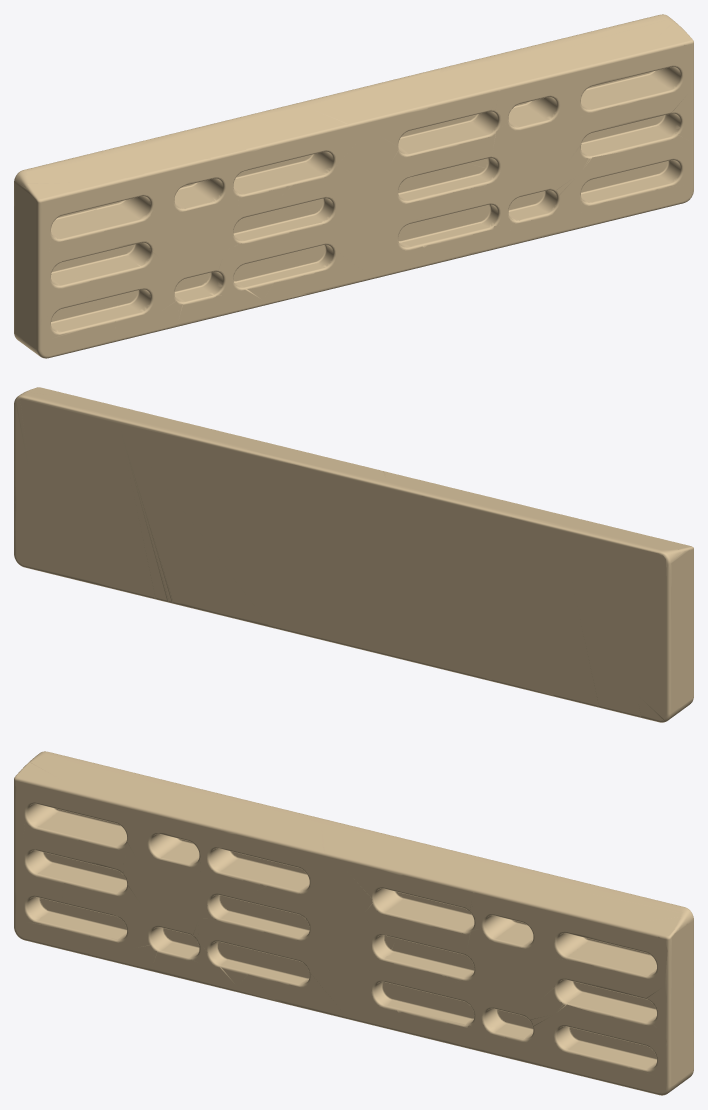
File: dewoodstok-woodbord.glb
3 renders of one model, top to bottom at view 1: azimuth 30°, elevation 25°; view 2: azimuth 150°, elevation 25°; view 3: azimuth 330°, elevation 25°, orthographic.
Parts seen in each view (by area): view 1: body, hold-top-rim, hold-lower-outer-left, hold-middle-outer-left, hold-lower-inner-right, hold-lower-inner-left, hold-lower-outer-right, hold-upper-outer-left, hold-middle-outer-right, hold-upper-outer-right, hold-upper-inner-left, hold-middle-inner-left (+6 smaller); view 2: body, hold-top-rim; view 3: body, hold-top-rim, hold-lower-outer-left, hold-middle-outer-left, hold-lower-inner-right, hold-lower-inner-left, hold-upper-outer-left, hold-lower-outer-right, hold-middle-outer-right, hold-upper-outer-right, hold-middle-inner-left, hold-upper-inner-left (+6 smaller).
Part boxes in pixels (x1,y1,x2,y2): body: [14, 43, 693, 358]; hold-top-rim: [14, 14, 693, 205]; hold-lower-outer-left: [50, 288, 155, 339]; hold-middle-outer-left: [50, 241, 153, 288]; hold-lower-inner-right: [396, 203, 501, 250]; hold-lower-inner-left: [232, 242, 335, 290]; hold-lower-outer-right: [579, 158, 683, 206]; hold-upper-outer-left: [50, 194, 153, 242]; hold-middle-outer-right: [580, 112, 683, 159]; hold-upper-outer-right: [580, 65, 683, 112]; hold-upper-inner-left: [232, 150, 335, 197]; hold-middle-inner-left: [232, 196, 335, 243]; body: [14, 398, 693, 722]; hold-top-rim: [14, 387, 693, 575]; body: [14, 780, 693, 1095]; hold-top-rim: [14, 751, 693, 943]; hold-lower-outer-left: [24, 895, 129, 948]; hold-middle-outer-left: [24, 849, 127, 896]; hold-lower-inner-right: [371, 980, 476, 1027]; hold-lower-inner-left: [207, 940, 310, 987]; hold-upper-outer-left: [24, 802, 127, 852]; hold-lower-outer-right: [553, 1025, 657, 1072]; hold-middle-outer-right: [554, 978, 657, 1025]; hold-upper-outer-right: [554, 931, 657, 979]; hold-middle-inner-left: [207, 893, 310, 940]; hold-upper-inner-left: [207, 847, 310, 894].
Size of the model in its own units: 0.59 by 0.1471 by 0.04.
